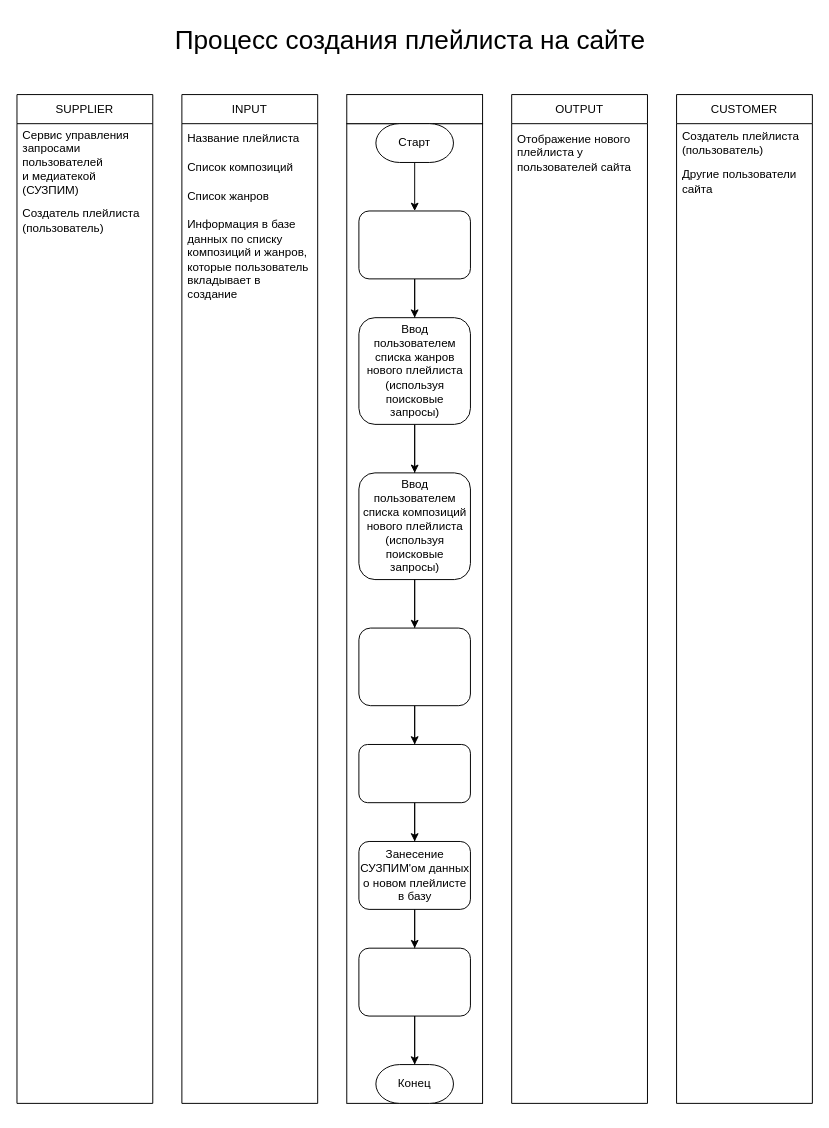
This 829x1128 diagram has some shape labels left out. The centre of each missing label's shape, as x and y in pixels:
PROCESS: point (414, 109)
Ввод пользователем названия нового плейлиста: point (414, 244)
Обращение к СУЗПИМ'у по данному запросу: point (414, 773)
Отображение нового контента у пользователей сайта: point (414, 981)
Создание запроса пользователем на публикацию плейлиста на сайт: point (414, 666)
